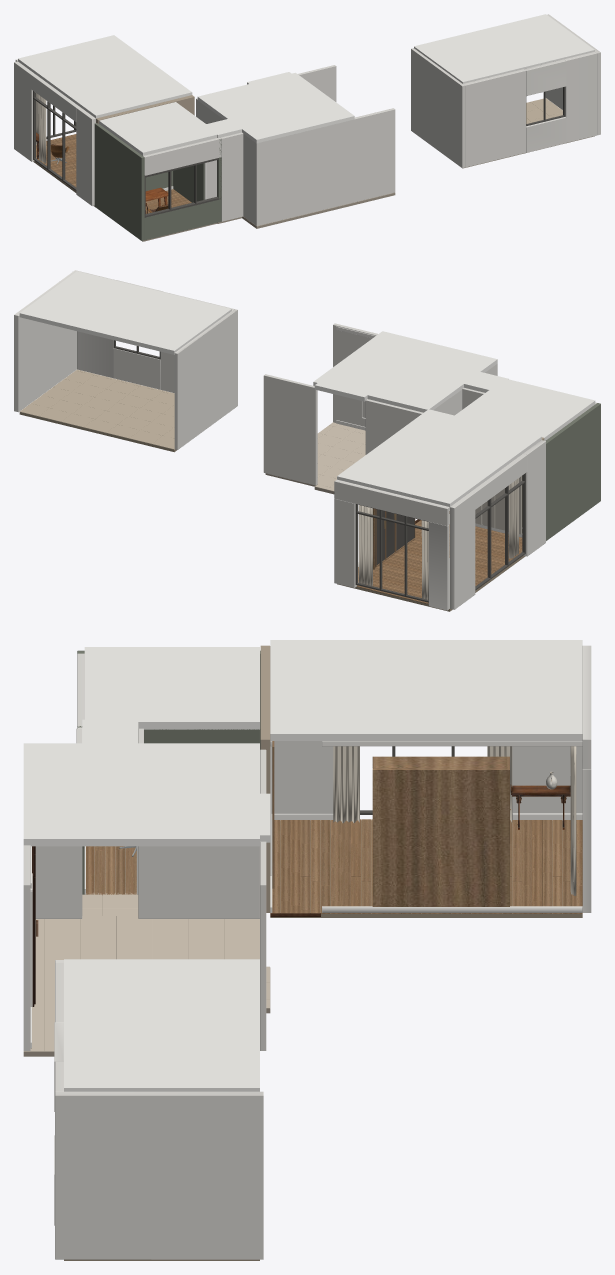
The model's file is ground.glb.
The picture shows the model from 3 angles, top to bottom: view 1: azimuth 30°, elevation 25°; view 2: azimuth 150°, elevation 25°; view 3: azimuth 270°, elevation 25°; orthographic projection. The views are drawn at different scales.
Visible parts, largest first — view 1: SM_KG_NewRooms, SM_UP_OpenFoyer, SM_KG_GuestCurtains; view 2: SM_KG_NewRooms, SM_UP_OpenFoyer, SM_KG_GuestCurtains, SM_KG_GuestWardrobe, SM_KG_GuestFeaturePanels; view 3: SM_KG_NewRooms, SM_UP_OpenFoyer, SM_KG_GuestWardrobe, SM_KG_GuestCurtains, SM_KG_GuestConsole.
Boxes of the visible parts, x1,y1,x2,y2 form: SM_KG_NewRooms: (14,14,600,206); SM_UP_OpenFoyer: (94,65,395,241); SM_KG_GuestCurtains: (36,93,46,163); SM_KG_NewRooms: (14,270,545,611); SM_UP_OpenFoyer: (263,323,600,540); SM_KG_GuestCurtains: (358,478,518,599); SM_KG_GuestWardrobe: (373,508,415,569); SM_KG_GuestFeaturePanels: (449,476,521,534); SM_KG_NewRooms: (54,640,591,1260); SM_UP_OpenFoyer: (23,647,270,1056); SM_KG_GuestWardrobe: (372,756,509,906); SM_KG_GuestCurtains: (333,746,576,895); SM_KG_GuestConsole: (510,784,570,829).
Size of the model in its own units: 19.31 by 3.74 by 10.43.
Materials: 31 (15 with a texture image).
